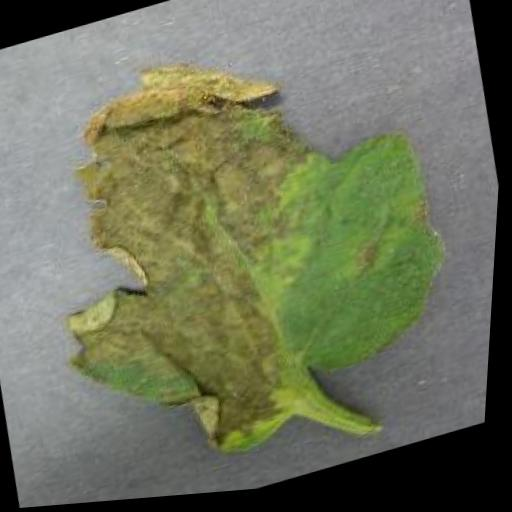Bacterial Spot: (7, 0, 497, 504)
